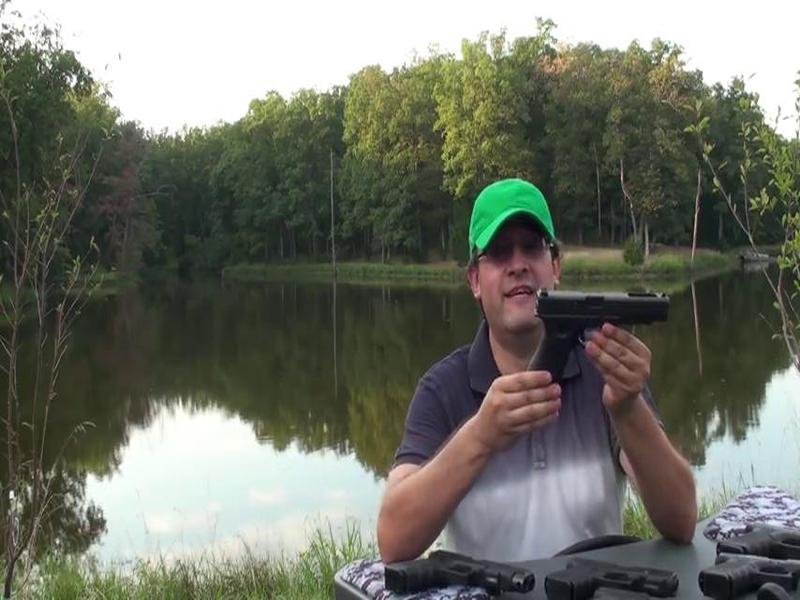Pistola: (521, 273, 670, 394), (374, 542, 543, 594)
